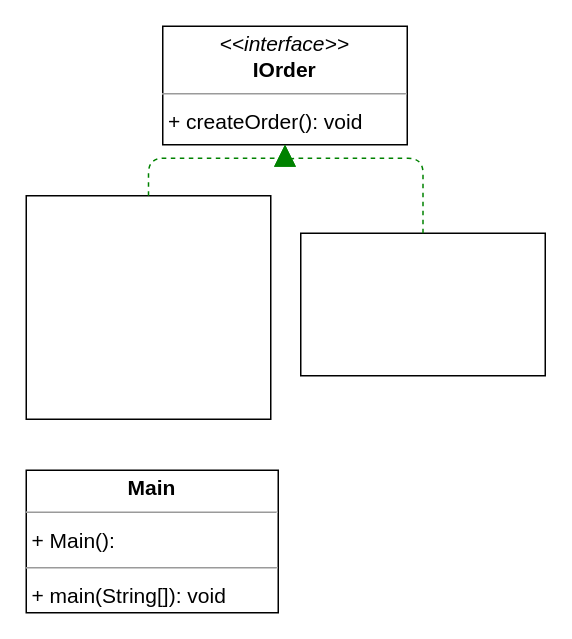
The diagram is 572 pixels wide and 639 high, and some of its shapes have lost their labels. Here are the shapes that lost their labels. From the top down, the centre of each, then its label:
At [148,306]: "Order + Order(String): - item: String + createOrder(): void item: String".
At [422,304]: "ProxyOrder + ProxyOrder(): + createOrder(): void".
